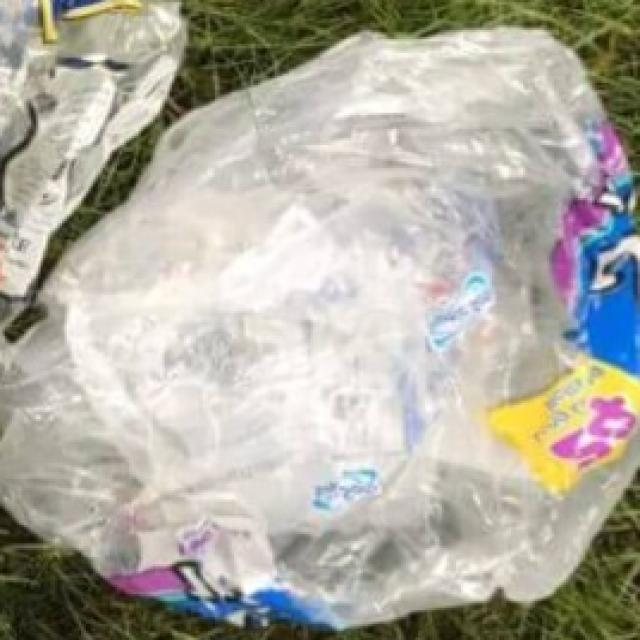plastic bag: (0, 0, 640, 622)
